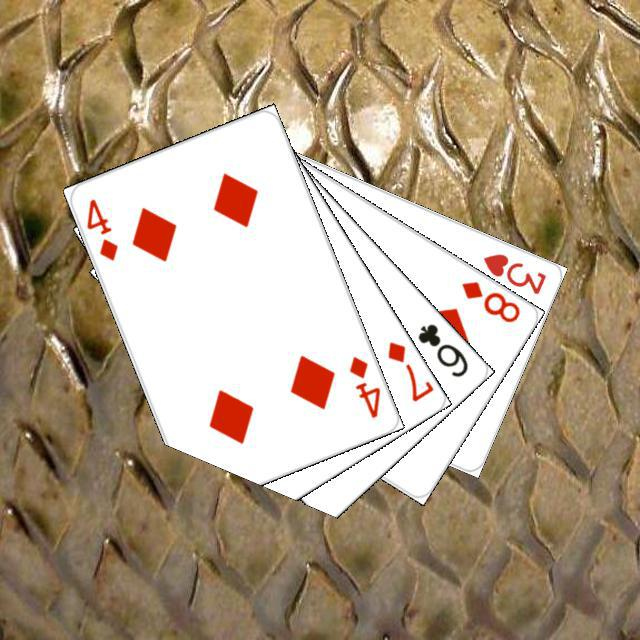3h: (478, 248, 548, 297)
4d: (81, 193, 120, 263), (344, 351, 382, 420)
6c: (412, 319, 470, 379)
7d: (382, 336, 434, 404)
8d: (456, 276, 522, 325)
